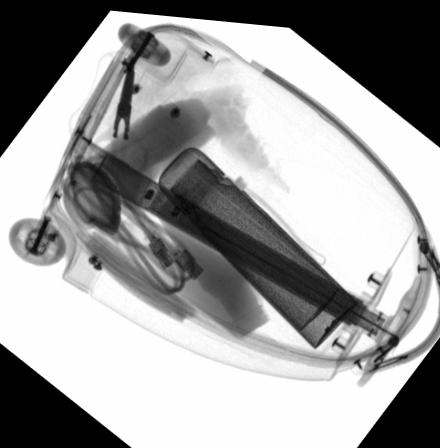Scissors: (85, 48, 146, 186)
